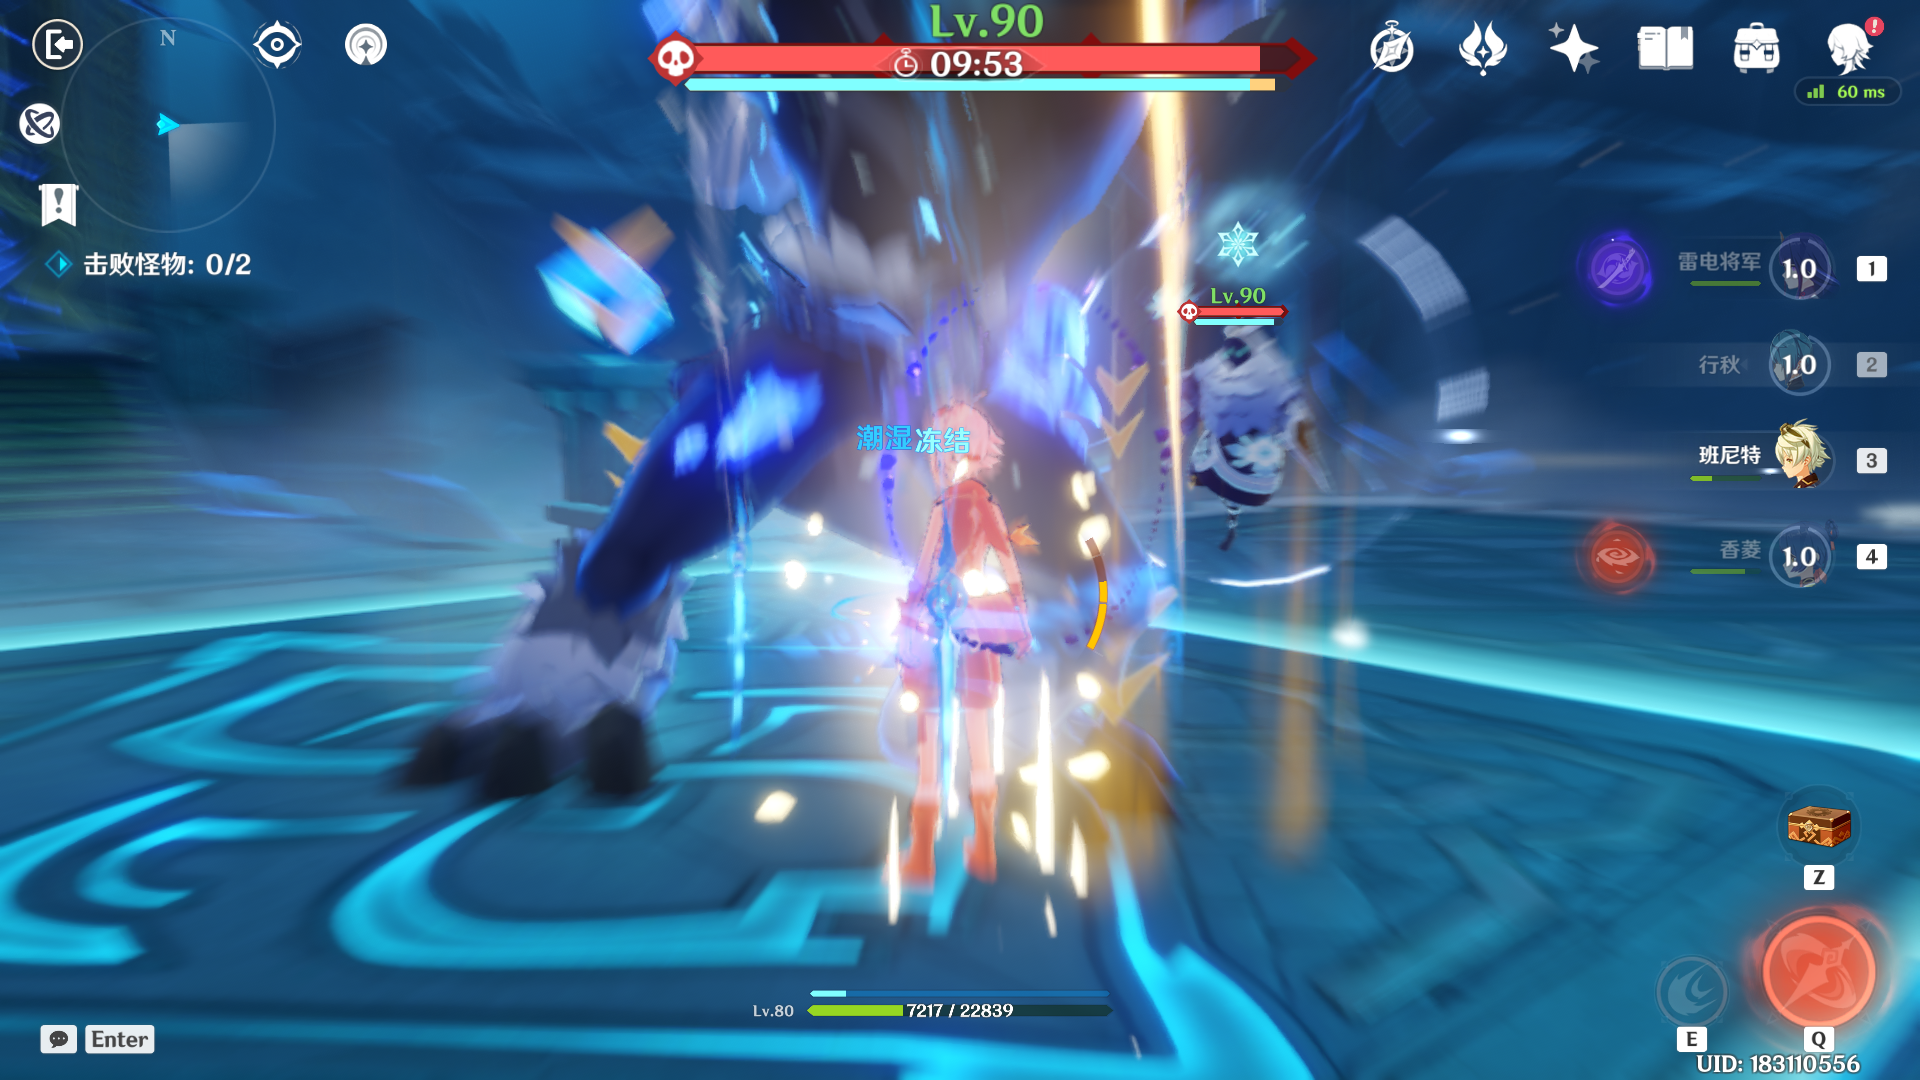bosshili: (380, 1, 1276, 839)
caster: (1134, 295, 1357, 592)
character: (869, 377, 1091, 920)
